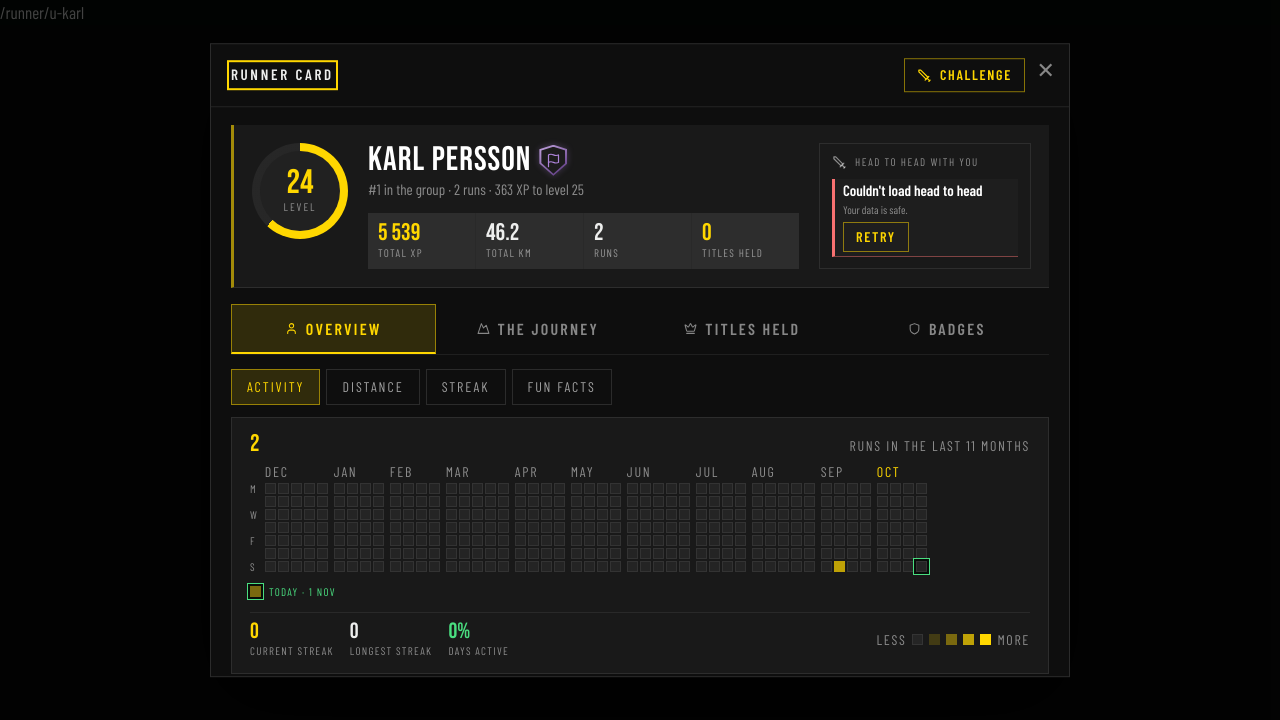
Test case: Head to head in its own panel in the banner › shows the error state with Retry inside the panel, and Retry fetches again
Check: the heading "Couldn't load head to head" is shown, box [843,183,983,198]
Check: the link "Challenge" is shown, box [904,58,1025,92]
Click the button "Retry" at (876, 237), box [843,222,909,252]
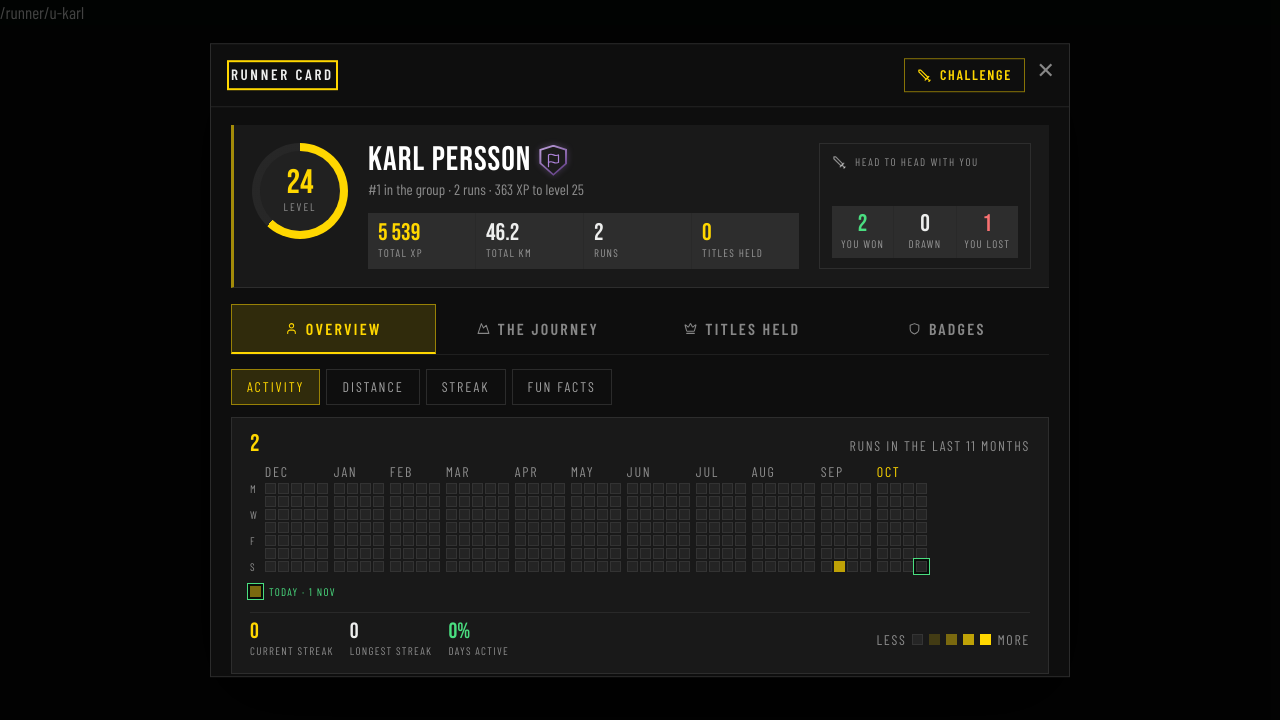
Check: the message "Couldn't load head to head Your data is safe. Retry" is gone
